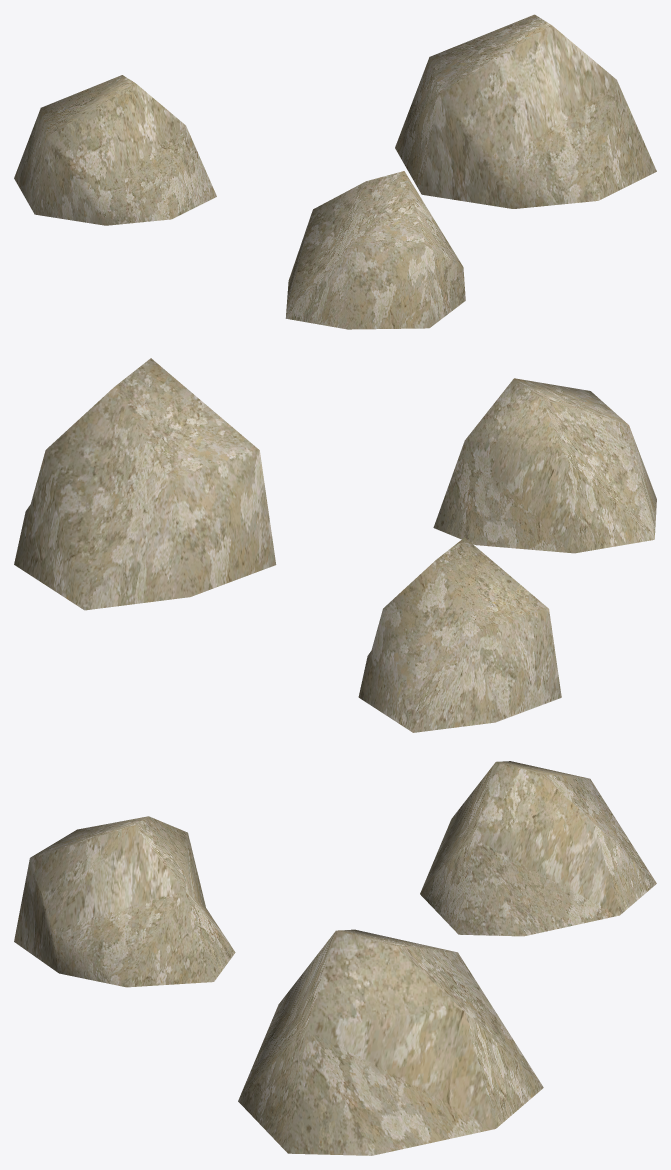
Rendered from rock_small_pile_a1_l0.fbx.
3 renders of one model, top to bottom at view 1: azimuth 30°, elevation 25°; view 2: azimuth 150°, elevation 25°; view 3: azimuth 270°, elevation 25°, orthographic. The views are drawn at different scales.
Visible parts, largest first — view 1: mesh_node; view 2: mesh_node; view 3: mesh_node.
Boxes of the visible parts, x1,y1,x2,y2 form: mesh_node: [14, 14, 656, 329]; mesh_node: [14, 358, 656, 732]; mesh_node: [14, 761, 656, 1155].
Bounding box in the file's own units: 1.33 × 0.3589 × 1.19.
